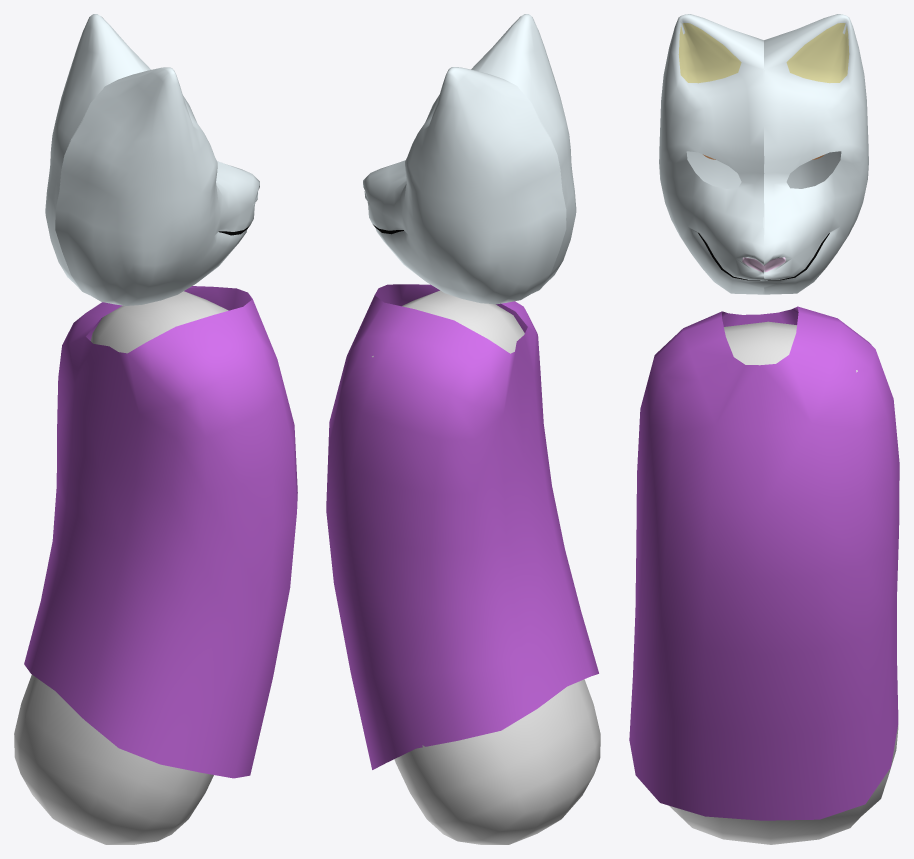
Rendered from NPC 2.fbx.
3 renders of one model, left to right at view 1: azimuth 30°, elevation 25°; view 2: azimuth 150°, elevation 25°; view 3: azimuth 270°, elevation 25°, orthographic. The views are drawn at different scales.
Visible parts, largest first — view 1: T-shirt.007, Mask.005, body.007; view 2: T-shirt.007, Mask.005, body.007; view 3: T-shirt.007, Mask.005, body.007.
Boxes of the visible parts, left/top/right/bottom form: T-shirt.007: left=24, top=286, right=297, bottom=778; Mask.005: left=45, top=14, right=259, bottom=305; body.007: left=14, top=291, right=228, bottom=844; T-shirt.007: left=326, top=284, right=598, bottom=769; Mask.005: left=363, top=14, right=576, bottom=304; body.007: left=372, top=290, right=600, bottom=844; T-shirt.007: left=629, top=306, right=899, bottom=820; Mask.005: left=659, top=14, right=868, bottom=294; body.007: left=669, top=321, right=898, bottom=844.
Size of the model in its own units: 2.26 by 7.21 by 2.12.
